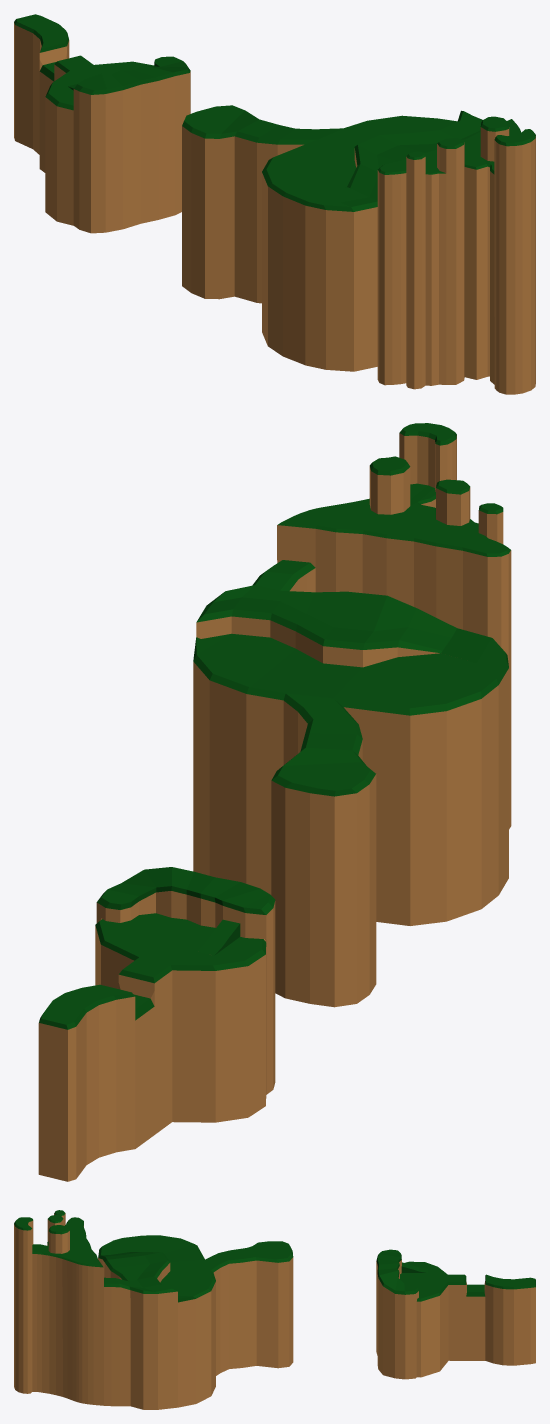
File: World_Shop_Base Fruit Island.fbx
3 renders of one model, top to bottom at view 1: azimuth 30°, elevation 25°; view 2: azimuth 150°, elevation 25°; view 3: azimuth 270°, elevation 25°, orthographic. The views are drawn at different scales.
Visible parts, largest first — view 1: Fruit Island; view 2: Fruit Island; view 3: Fruit Island.
Boxes of the visible parts, bbox=[...] form: Fruit Island: bbox=[14, 14, 535, 394]; Fruit Island: bbox=[38, 423, 511, 1181]; Fruit Island: bbox=[14, 1210, 535, 1409].
Bounding box in the file's own units: 73.69 × 77.23 × 215.
